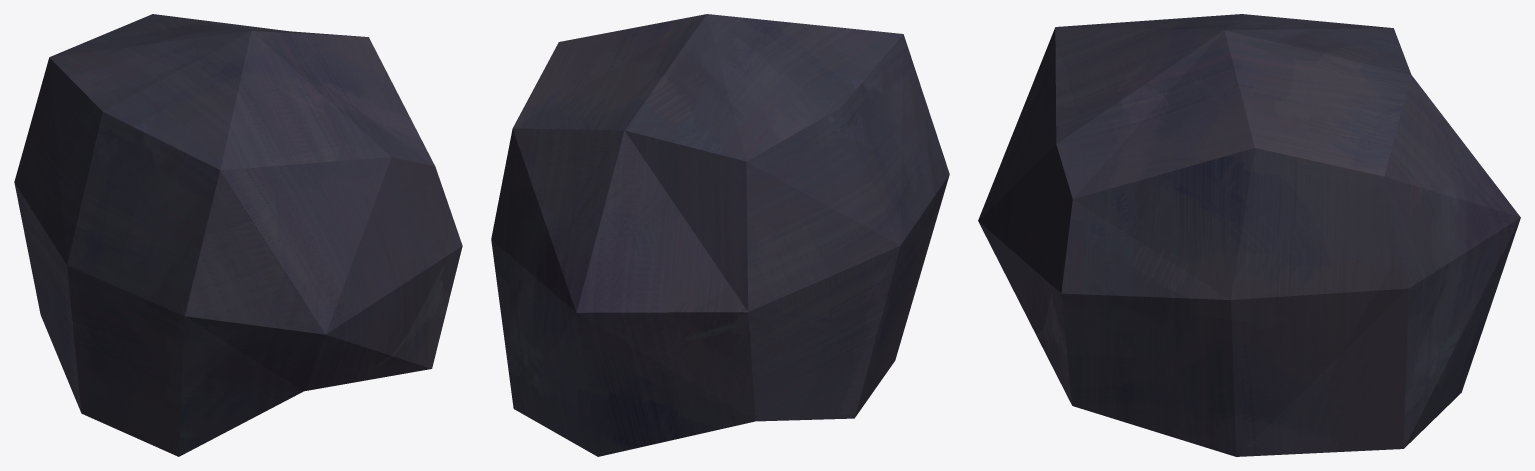
Rendered from Rock03.fbx.
The picture shows the model from 3 angles, left to right: view 1: azimuth 30°, elevation 25°; view 2: azimuth 150°, elevation 25°; view 3: azimuth 270°, elevation 25°; orthographic projection. The views are drawn at different scales.
Visible parts, largest first — view 1: Rock03; view 2: Rock03; view 3: Rock03.
Part boxes in pixels (bbox=[...]): Rock03: bbox=[14, 14, 462, 456]; Rock03: bbox=[491, 14, 949, 456]; Rock03: bbox=[978, 14, 1520, 456].
Bounding box in the file's own units: 0.5628 × 0.55 × 0.7401.
1 material, 1 textured.
